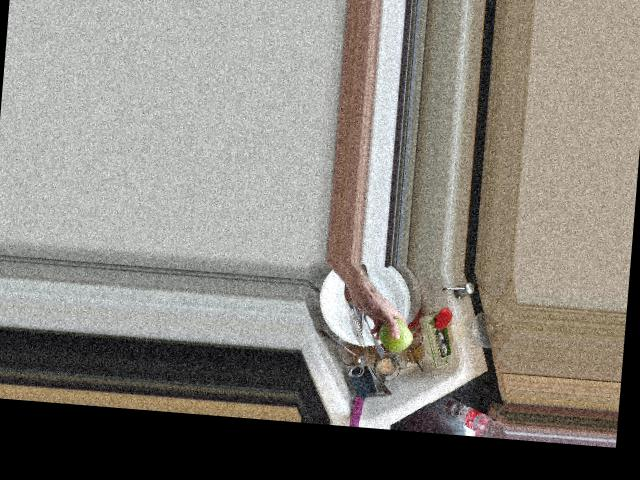apple: (374, 314, 414, 353)
